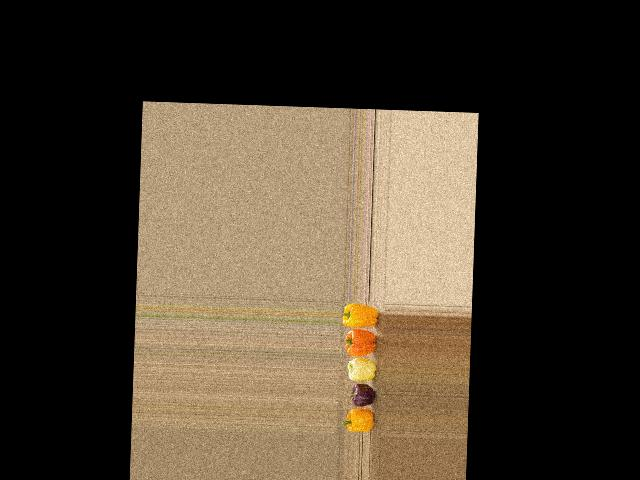bell_pepper: (340, 410, 380, 435)
